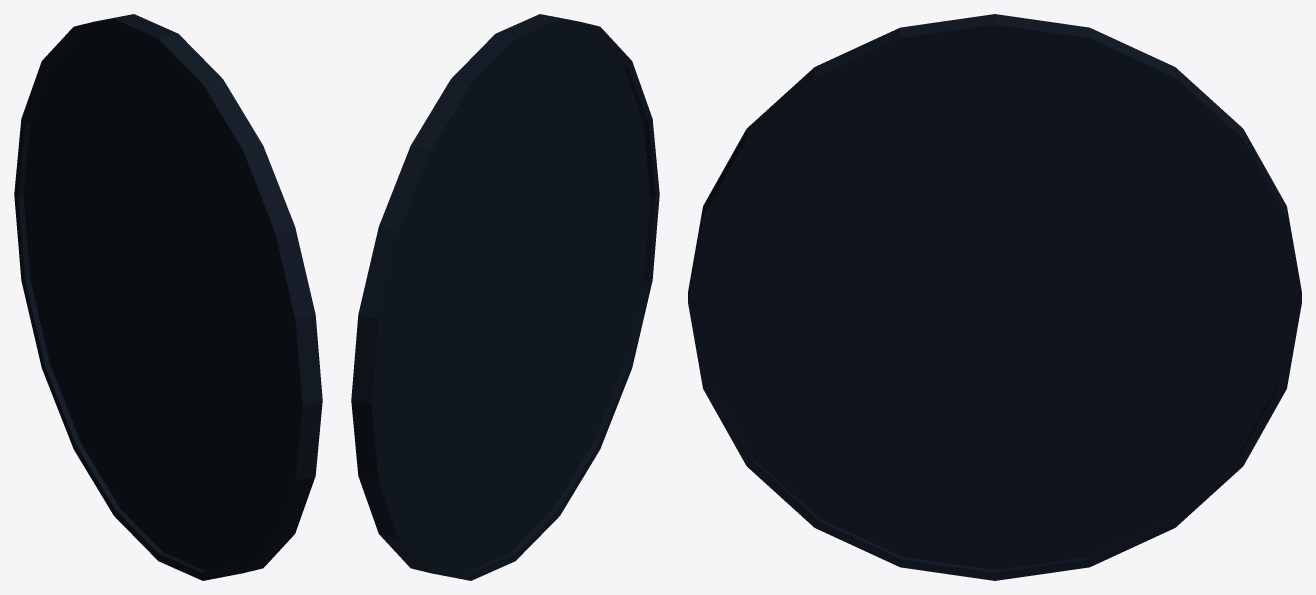
File: Sign_Radioactive.fbx
The picture shows the model from 3 angles, left to right: view 1: azimuth 30°, elevation 25°; view 2: azimuth 150°, elevation 25°; view 3: azimuth 270°, elevation 25°; orthographic projection. The views are drawn at different scales.
Visible parts, largest first — view 1: Cylinder.331; view 2: Cylinder.331; view 3: Cylinder.331.
Part boxes in pixels (bbox=[...]): Cylinder.331: bbox=[14, 14, 322, 580]; Cylinder.331: bbox=[351, 14, 659, 580]; Cylinder.331: bbox=[688, 14, 1301, 580].
Bounding box in the file's own units: 4.25 × 105 × 105.
